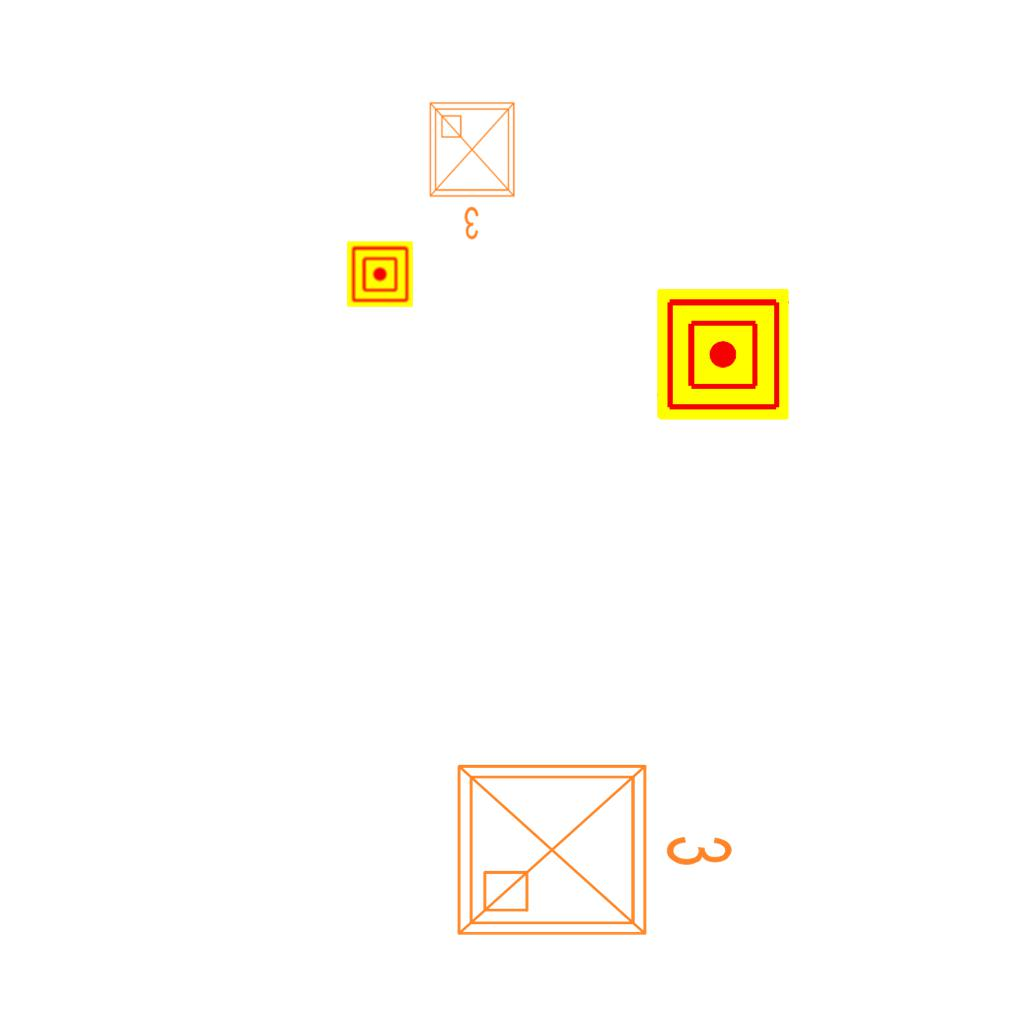Einbaudownlights_LED_Konferenzraeume: (443, 742, 743, 950), (422, 95, 526, 245)
NAM-Nichtautomatischer_Melder: (657, 288, 789, 420), (347, 241, 413, 307)
